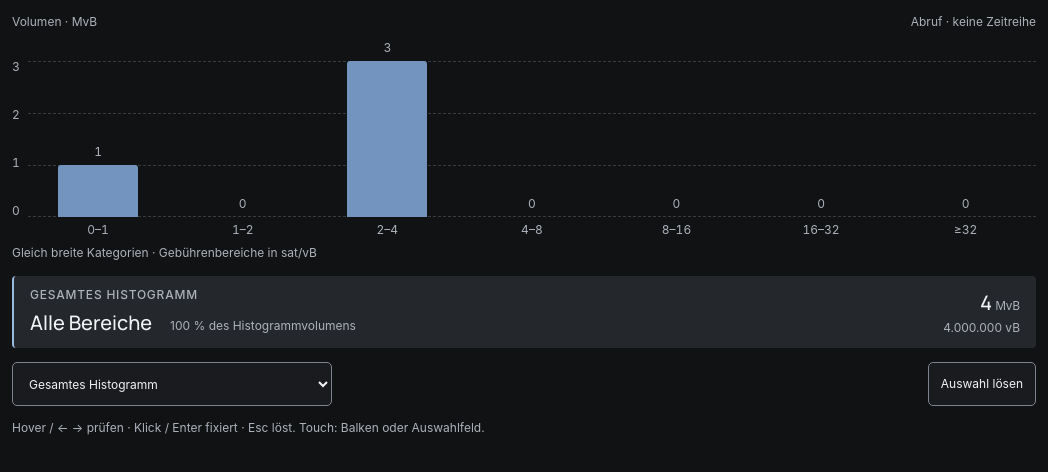
it: histogram inspection › previews hover without changing the pinned pressed state and restores on leave
Click the button named "0–<1 sat/vB: 1.000.000 vB". click: (98, 152)
box: [28,61,168,243]
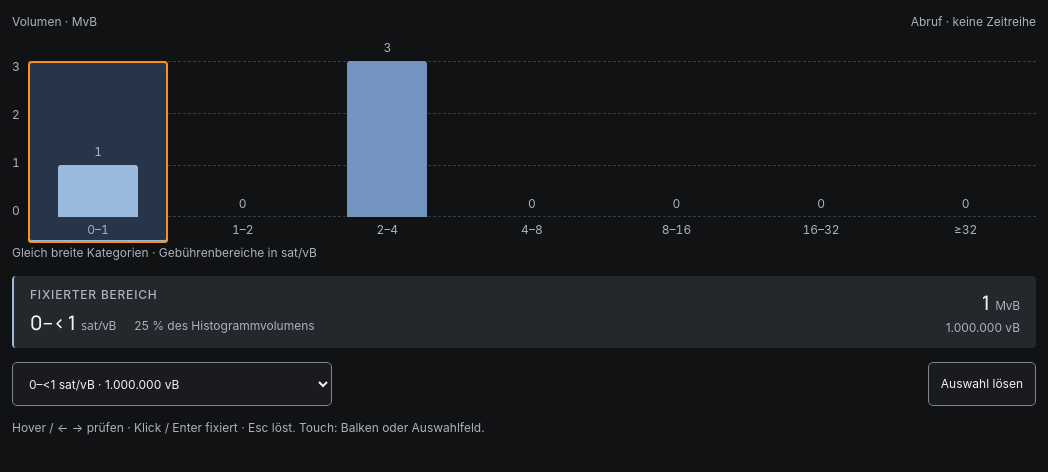
Hover over the button named "2–<4 sat/vB: 3.000.000 vB" at (387, 152), box [317,61,458,243]
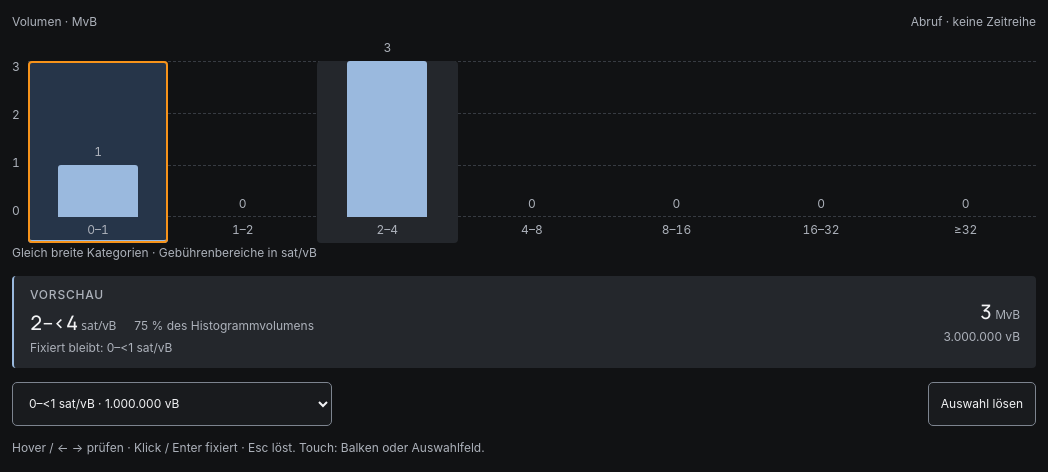
Now the message shows "Vorschau", box [30,287,104,302]
Now the message shows "Fixiert bleibt: 0–<1", box [12,276,1036,368]
Move the pointer off the button named "2–<4 sat/vB: 3.000.000 vB", box [317,61,458,243]
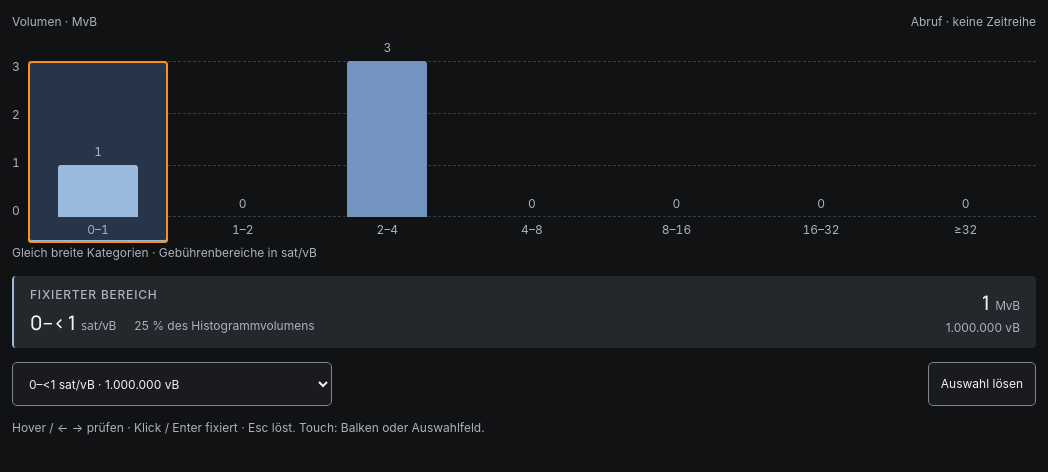
Now the message shows "Fixierter Bereich", box [30,287,158,302]
Now the message shows "1.000.000 vB", box [12,276,1036,348]
